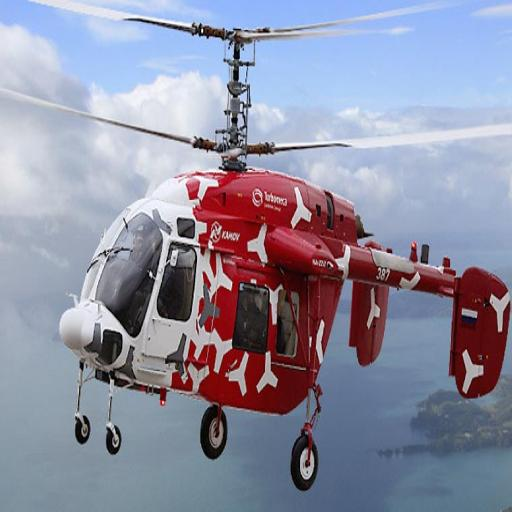helicopter: (57, 31, 512, 495)
